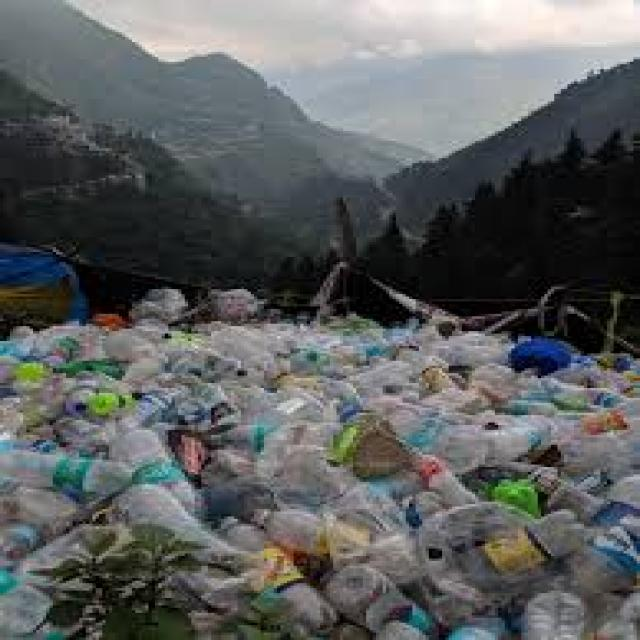heap: (18, 337, 631, 640)
